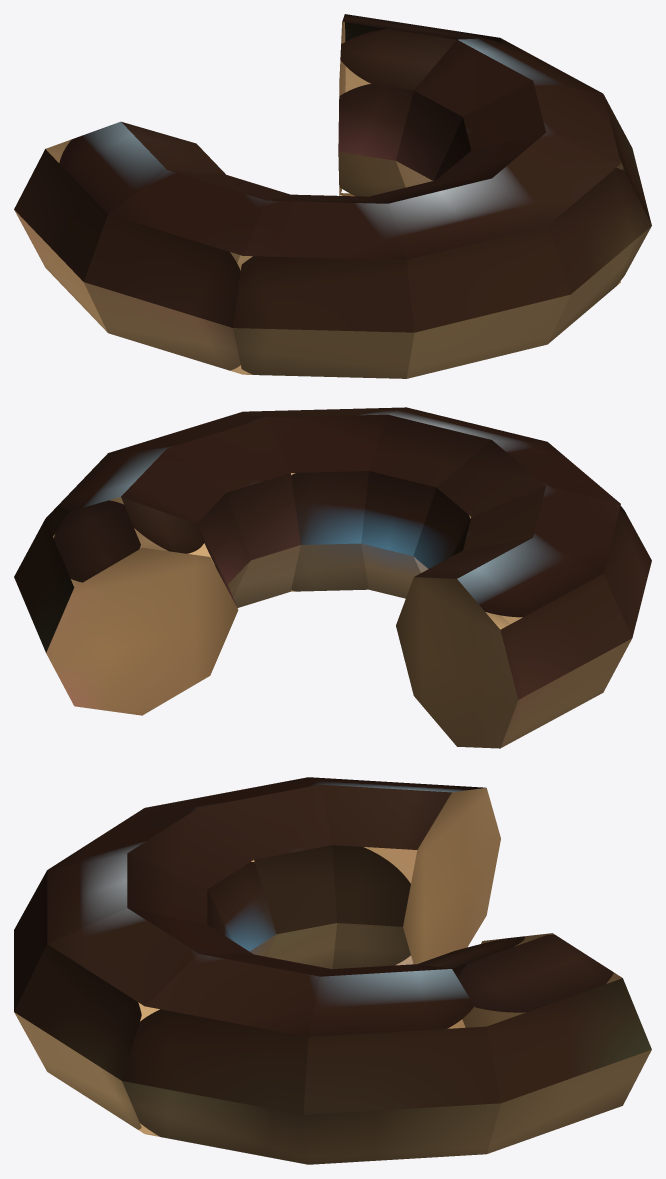
File: Donut.fbx
3 renders of one model, top to bottom at view 1: azimuth 30°, elevation 25°; view 2: azimuth 150°, elevation 25°; view 3: azimuth 270°, elevation 25°, orthographic. The views are drawn at different scales.
Parts seen in each view (by area): view 1: torus; view 2: torus; view 3: torus.
Part boxes in pixels (bbox=[...]): torus: bbox=[14, 14, 651, 378]; torus: bbox=[14, 407, 651, 748]; torus: bbox=[14, 777, 651, 1164].
Size of the model in its own units: 15.53 by 4.54 by 14.54.
1 material, 1 textured.
